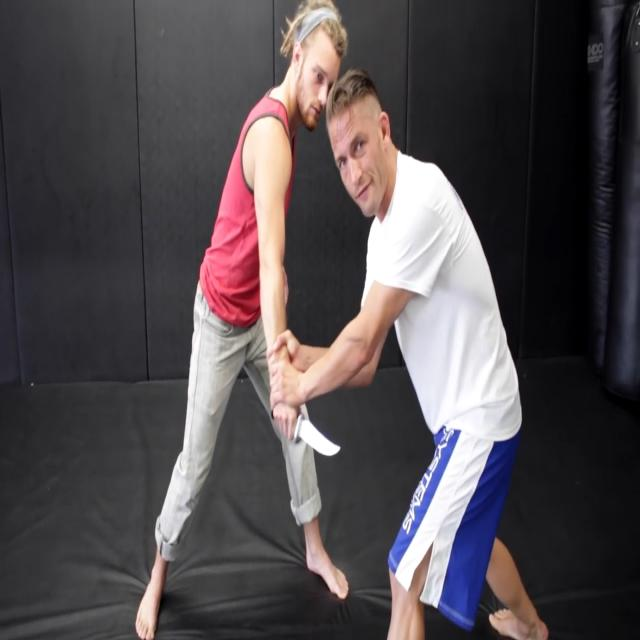knife: (296, 415, 344, 462)
